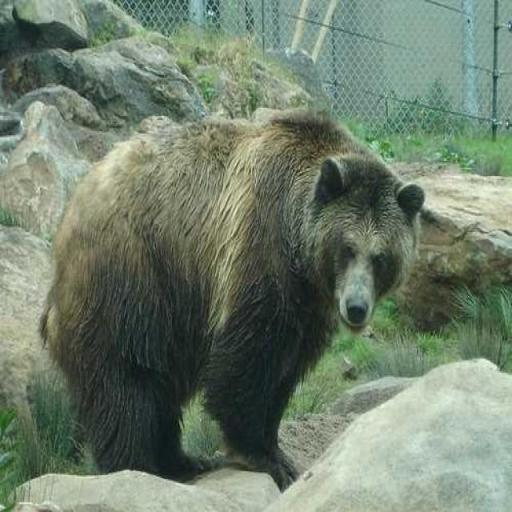Bear: (37, 105, 425, 492)
